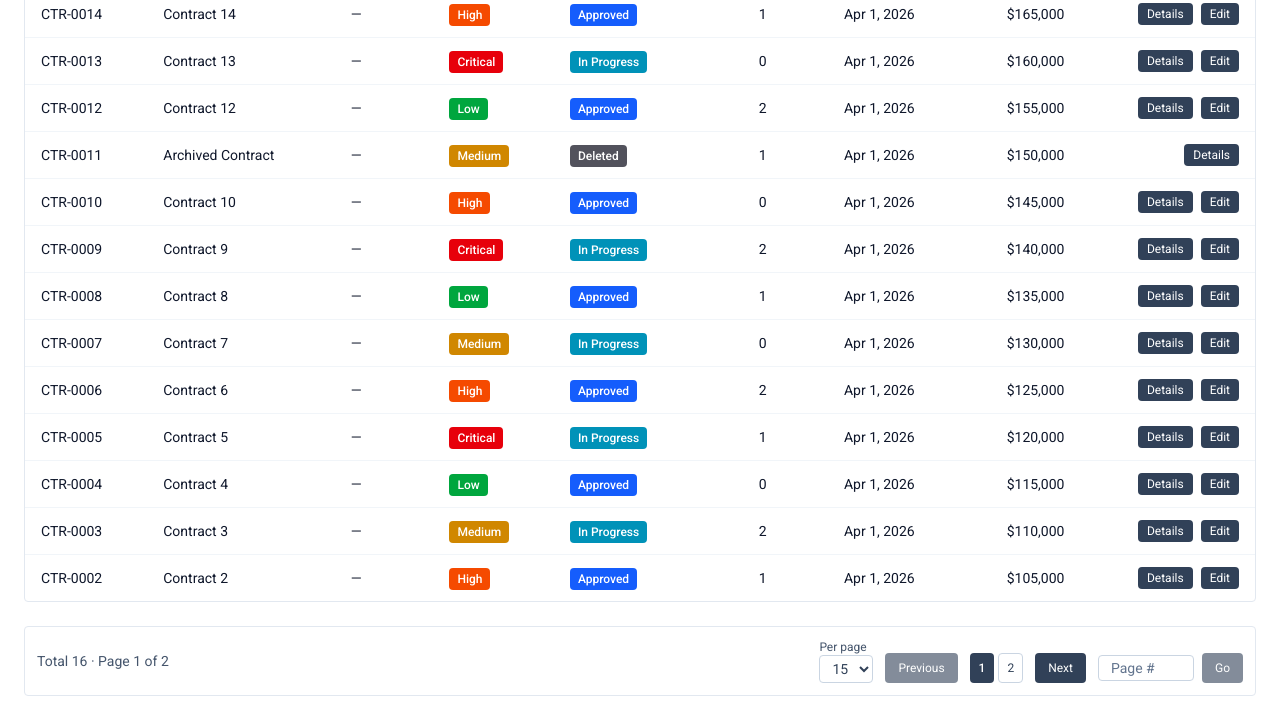
Test: Contracts page › renders contracts list, paginates and filters deleted contracts
(page scrolled)
Expected: the text "Archived Contract" is shown, [147,132,335,178]
Expected: the text "Total 16 · Page 1 of 2" is shown, [37,651,169,671]
Click the button "Next": (1061, 668) [1035,653,1086,683]
(page scrolled)
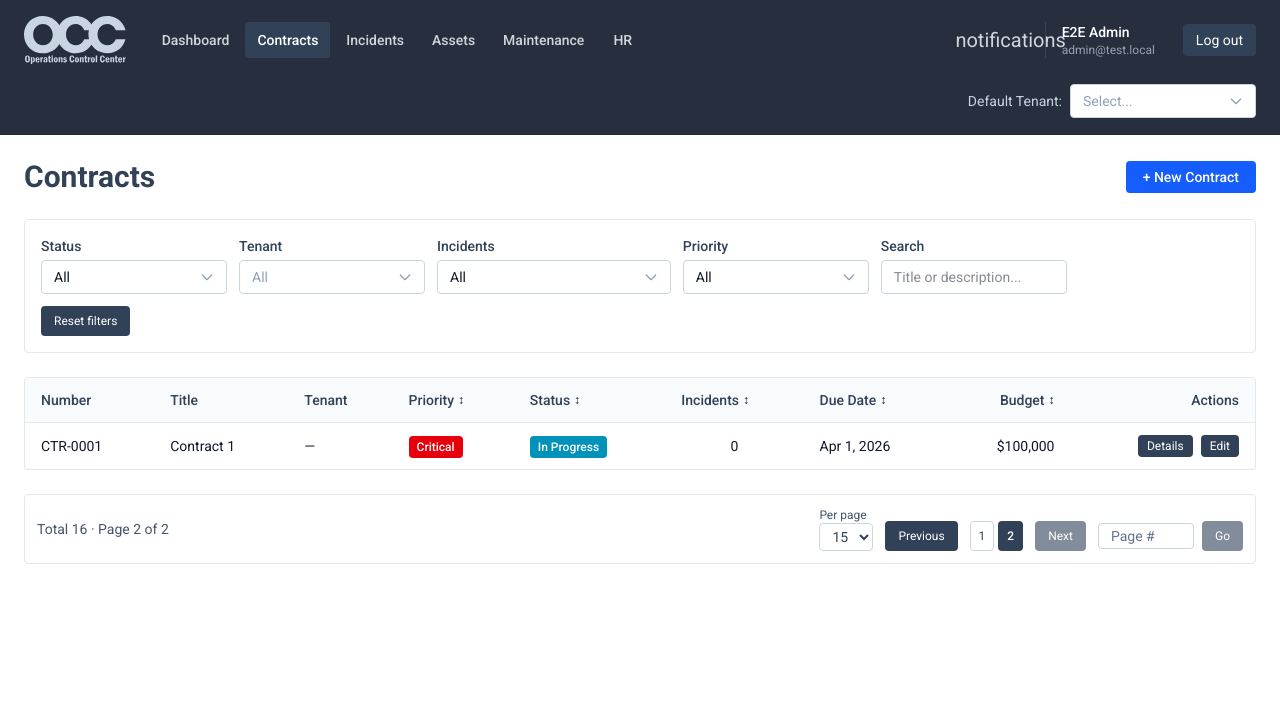
Expected: the text "Contract 1" is shown, [154,422,288,469]
Expected: the text "Total 16 · Page 2 of 2" is shown, [37,519,169,539]
In the field with placeholder "Title or description...": (974, 277) [881,260,1067,294], type "Archived"
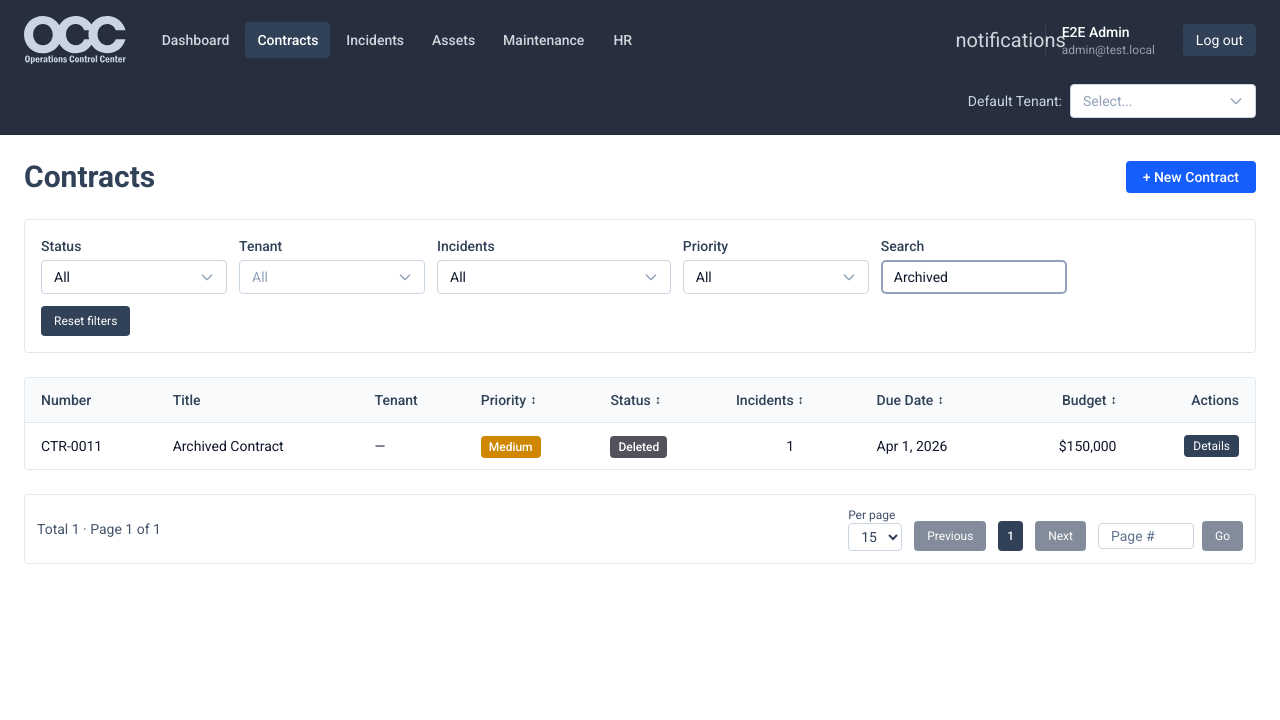
Expected: the button "Details" is shown, [1184,435,1239,457]
Expected: the text "Total 1 · Page 1 of 1" is shown, [37,519,161,539]
Expected: the text "Deleted" is shown, [610,436,667,458]
